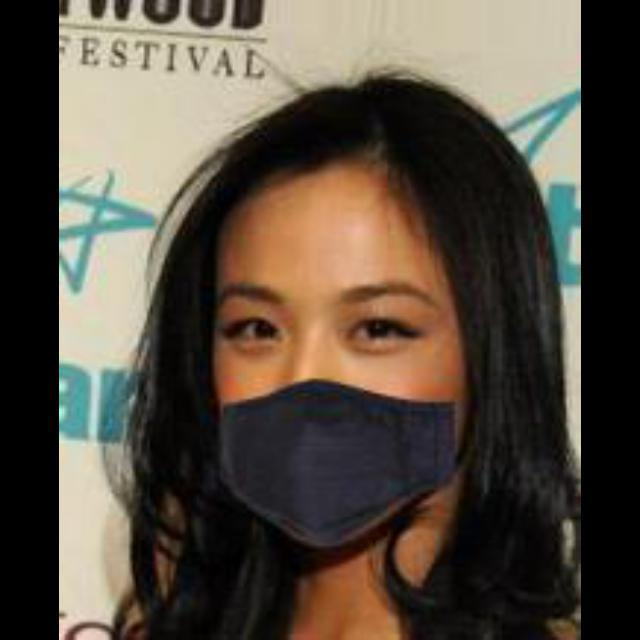suspicion: (198, 90, 536, 540)
